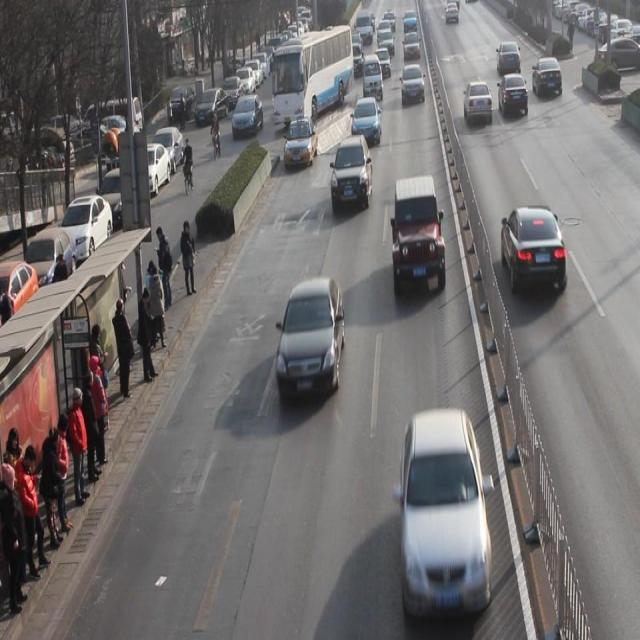car: (402, 408, 493, 603), (276, 276, 344, 398), (394, 176, 447, 297), (502, 202, 568, 296), (330, 135, 374, 212), (283, 116, 319, 166), (596, 34, 640, 74), (350, 96, 382, 148), (498, 70, 528, 116), (465, 80, 493, 126), (533, 57, 563, 99), (401, 63, 426, 105), (498, 40, 522, 75), (373, 47, 392, 79)
truck: (362, 52, 384, 102)
van: (272, 24, 351, 128)
